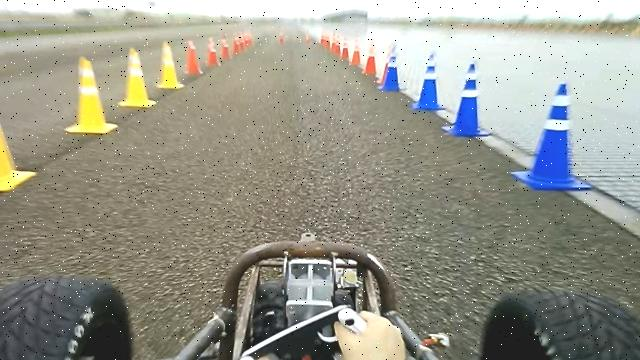blue cone: (510, 82, 592, 191), (442, 62, 492, 137), (412, 52, 446, 111), (378, 44, 403, 92)
yellow cone: (64, 56, 119, 134), (0, 119, 37, 192), (117, 48, 157, 108), (156, 42, 184, 90)
